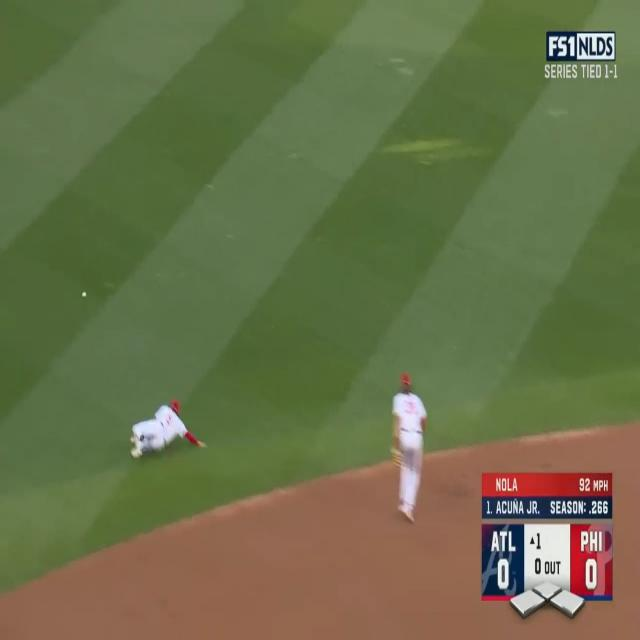baseball: (82, 291, 87, 298)
